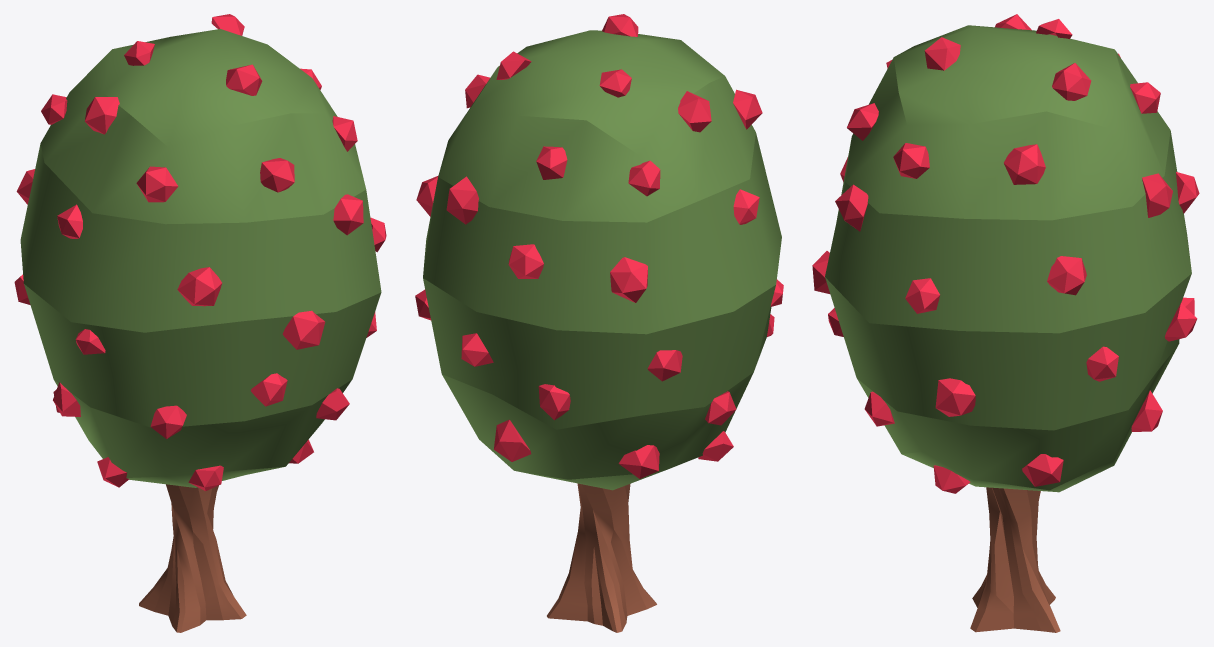
File: Tree_2_Low_WF.fbx
3 renders of one model, left to right at view 1: azimuth 30°, elevation 25°; view 2: azimuth 150°, elevation 25°; view 3: azimuth 270°, elevation 25°, orthographic. The views are drawn at different scales.
Parts seen in each view (by area): view 1: Tree_2_Low_WF; view 2: Tree_2_Low_WF; view 3: Tree_2_Low_WF.
Part boxes in pixels (x1,y1,x2,y2): Tree_2_Low_WF: [14, 14, 386, 632]; Tree_2_Low_WF: [415, 14, 783, 632]; Tree_2_Low_WF: [812, 14, 1199, 632].
Size of the model in its own units: 107 by 188 by 113.
